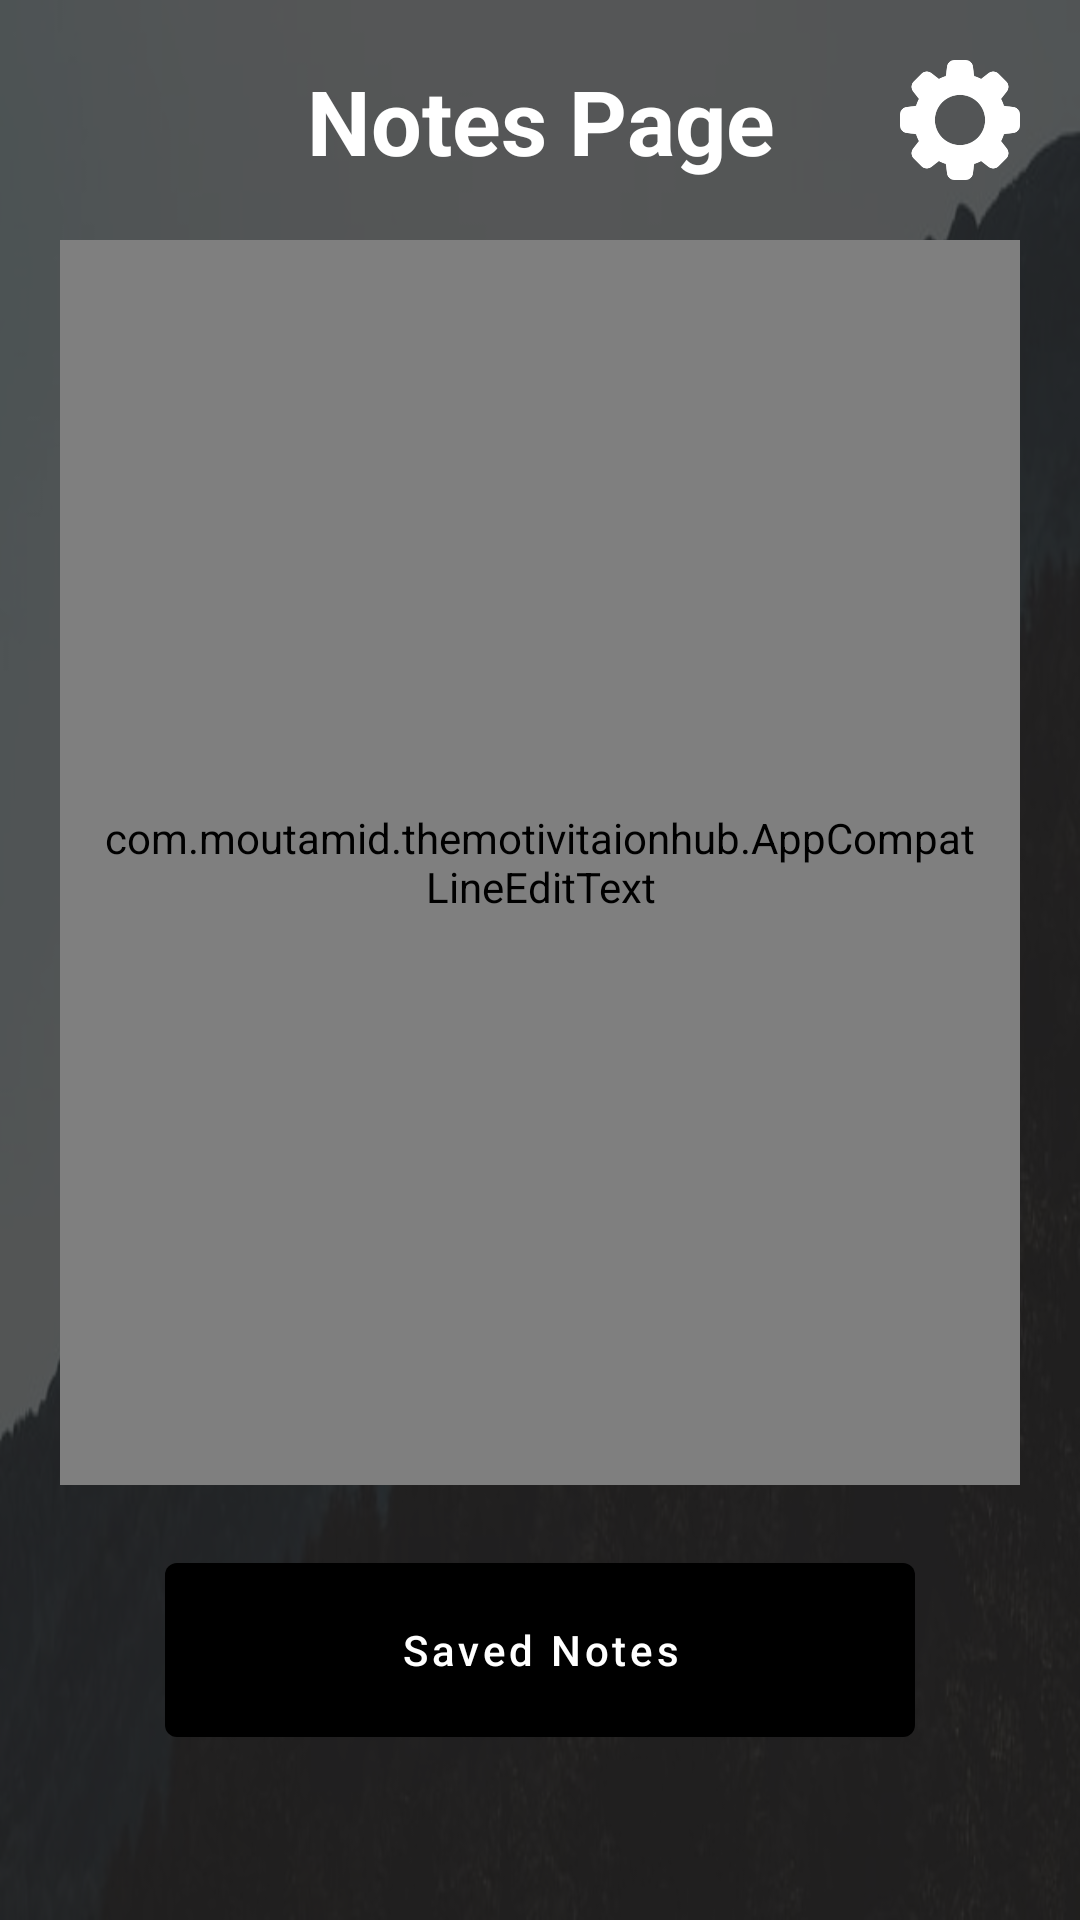

Where to tap for icons on this 1080 × 1920 app screen, as (x=x, y=y):
settings: (x=960, y=120)
